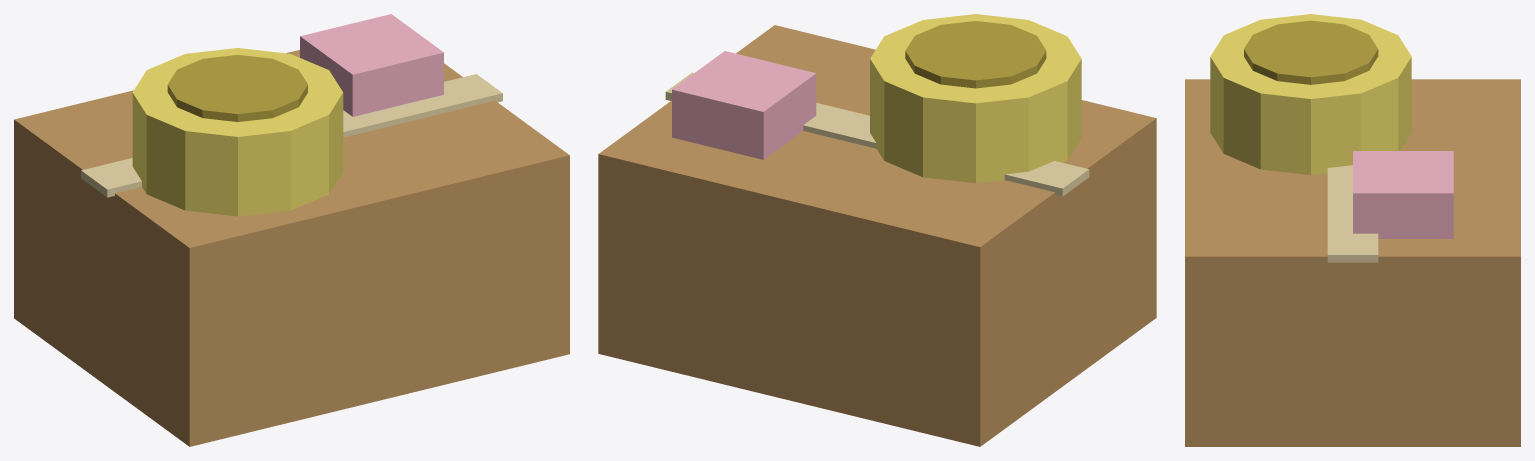
The model's file is foam_mold_box.glb.
3 views of the same model, side by side, from view 1: azimuth 30°, elevation 25°; view 2: azimuth 150°, elevation 25°; view 3: azimuth 270°, elevation 25° (orthographic). The views are drawn at different scales.
Parts seen in each view (by area): view 1: box_cardboard, mold_foam_yellow, sponge_foam_pink, mold_hole_foam_dark, tape_tape; view 2: box_cardboard, mold_foam_yellow, sponge_foam_pink, mold_hole_foam_dark, tape_tape; view 3: box_cardboard, mold_foam_yellow, sponge_foam_pink, mold_hole_foam_dark, tape_tape.
Part boxes in pixels (x1,y1,x2,y2): box_cardboard: [14, 50, 569, 446]; mold_foam_yellow: [132, 48, 343, 216]; sponge_foam_pink: [300, 14, 443, 116]; mold_hole_foam_dark: [167, 55, 307, 121]; tape_tape: [81, 74, 502, 197]; box_cardboard: [598, 25, 1156, 446]; mold_foam_yellow: [870, 14, 1081, 183]; sponge_foam_pink: [672, 51, 816, 159]; mold_hole_foam_dark: [905, 21, 1046, 88]; tape_tape: [665, 72, 1089, 196]; box_cardboard: [1185, 79, 1520, 446]; mold_foam_yellow: [1210, 14, 1411, 174]; sponge_foam_pink: [1353, 151, 1453, 238]; mold_hole_foam_dark: [1244, 20, 1378, 84]; tape_tape: [1327, 165, 1378, 262].
Bounding box in the file's own units: 0.52 × 0.36 × 0.4.
